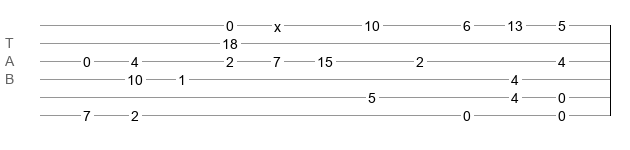0: (83, 54, 91, 64), (226, 18, 234, 28), (463, 108, 471, 118), (558, 90, 566, 100), (558, 108, 566, 118)
1: (178, 72, 186, 82)
10: (127, 72, 143, 82), (364, 18, 380, 28)
13: (507, 18, 523, 28)
15: (317, 54, 333, 64)
18: (222, 36, 238, 46)
2: (131, 108, 139, 118), (226, 54, 234, 64), (416, 54, 424, 64)
4: (131, 54, 139, 64), (511, 90, 519, 100), (511, 72, 519, 82), (558, 54, 566, 64)
5: (368, 90, 376, 100), (558, 18, 566, 28)
6: (463, 18, 471, 28)
7: (83, 108, 91, 118), (273, 54, 281, 64)
x: (274, 19, 281, 27)
